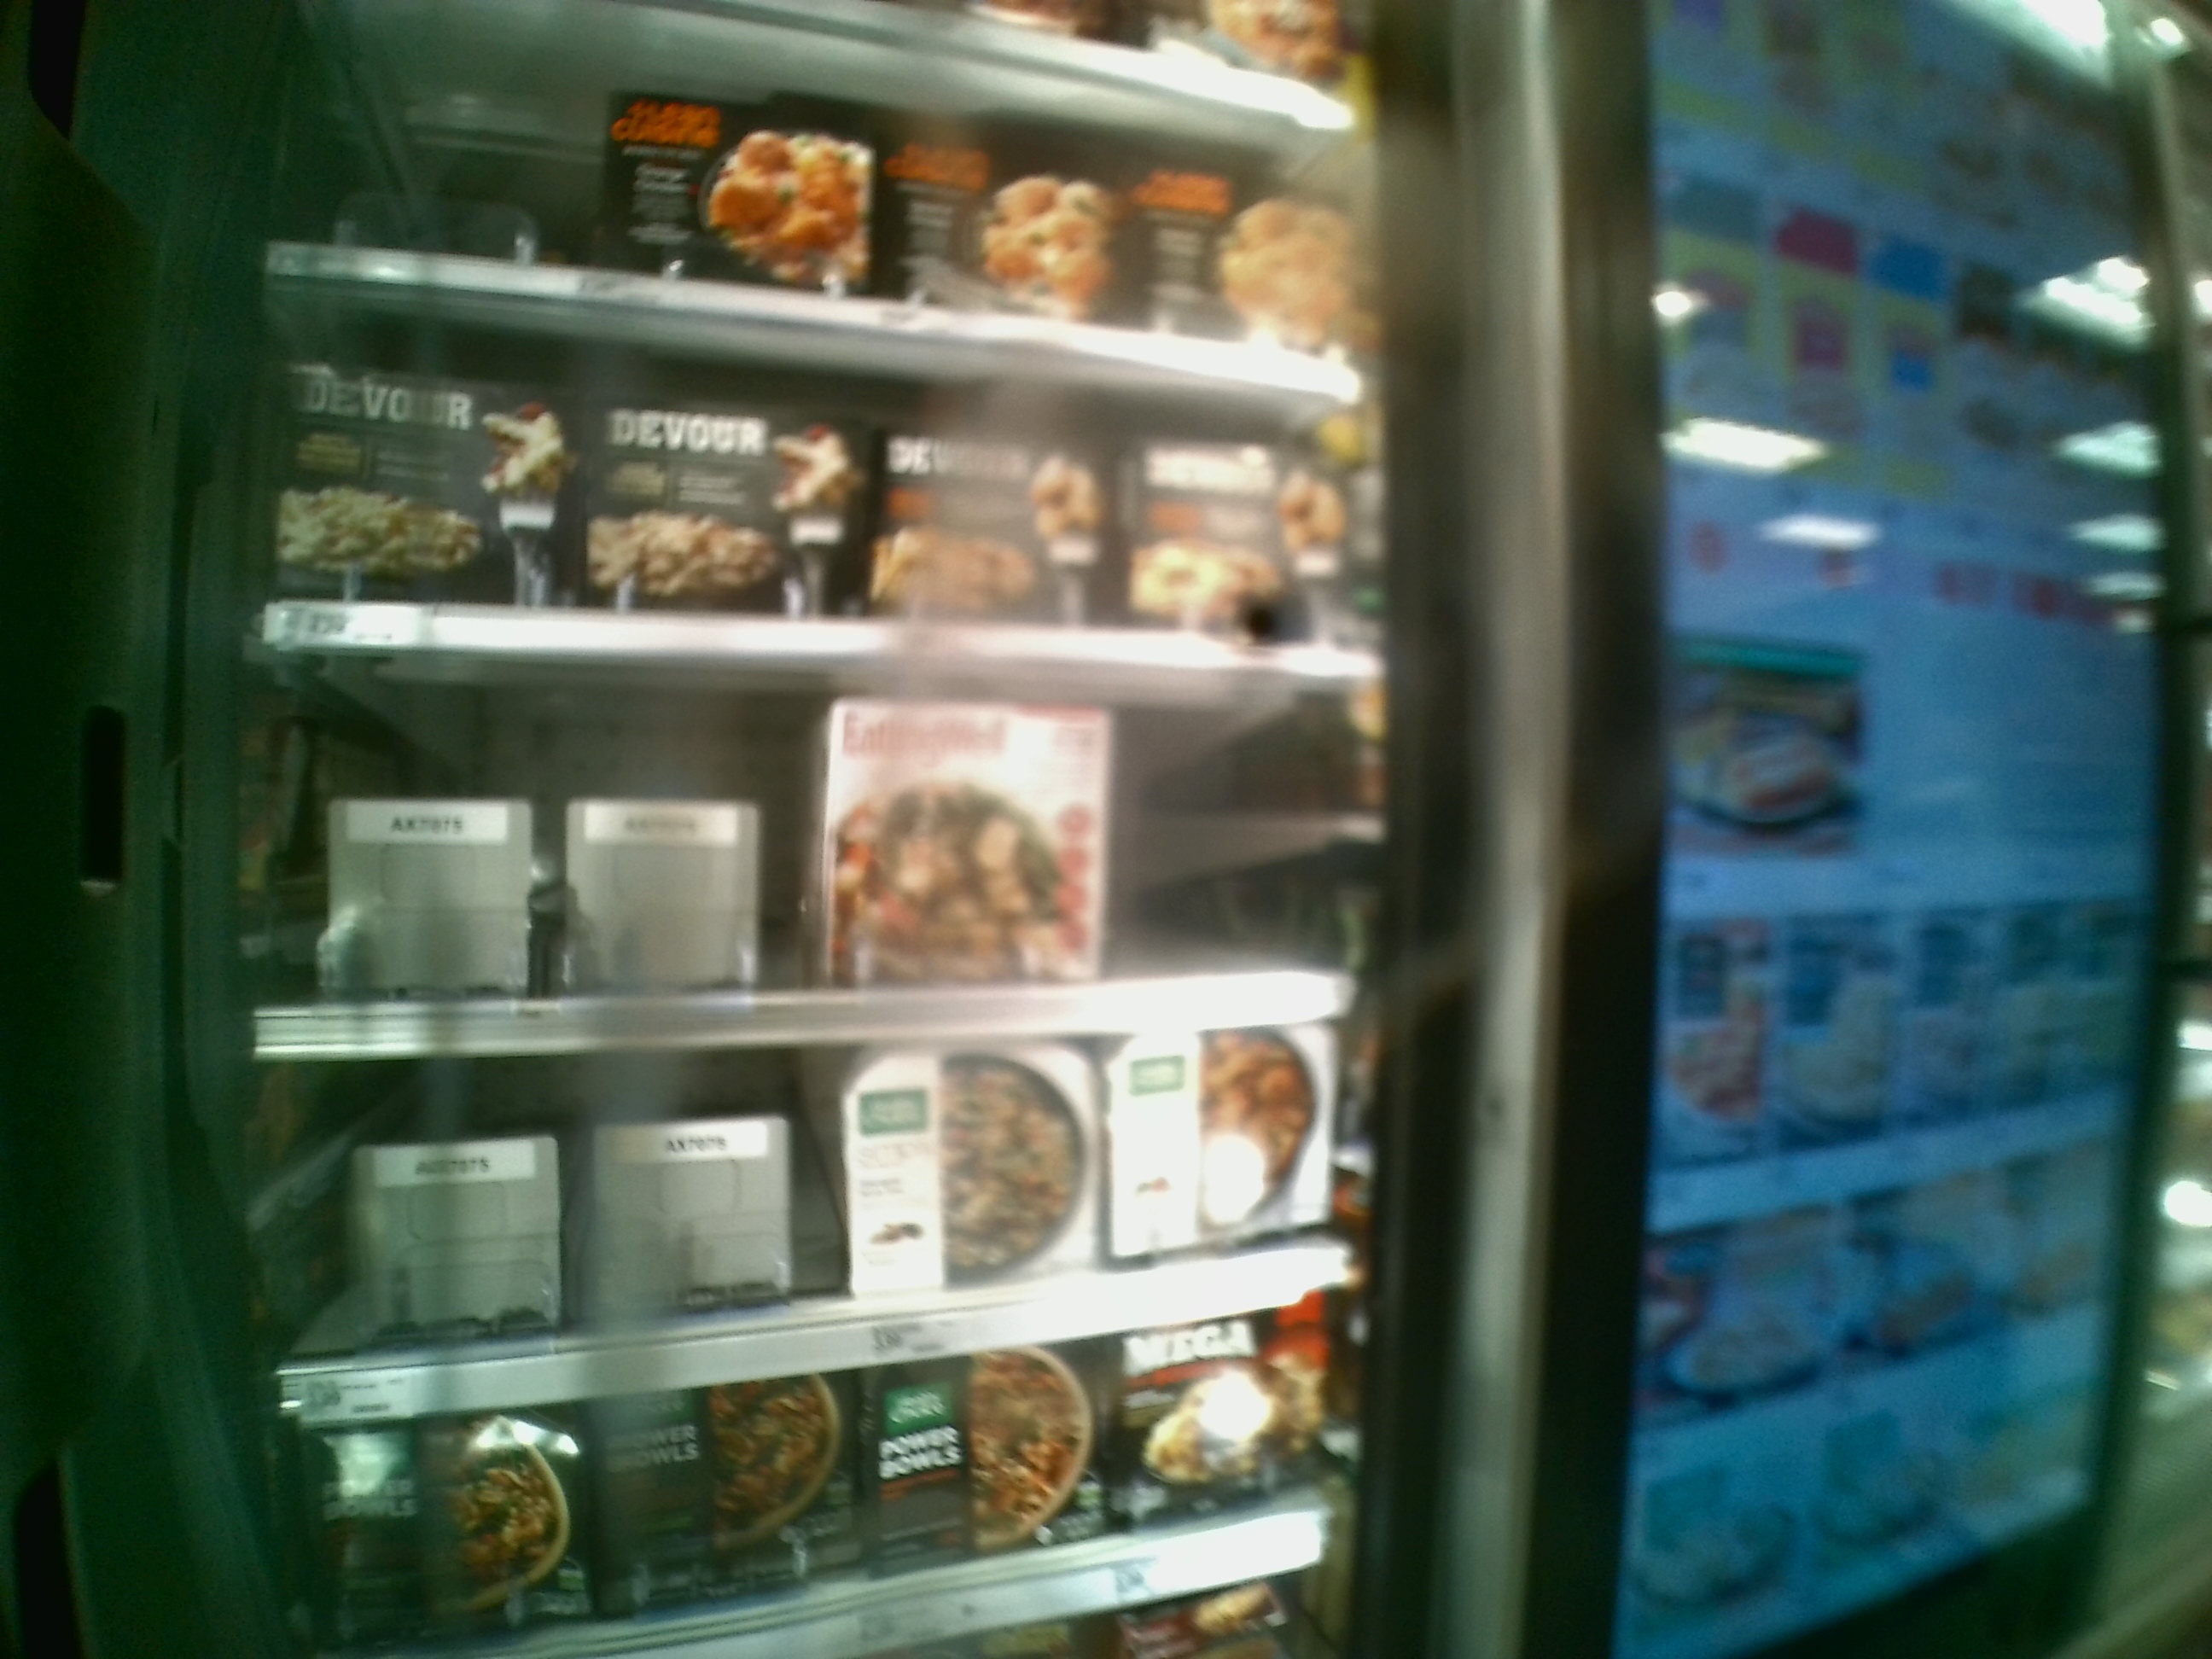shelf: (246, 643, 1407, 1053)
